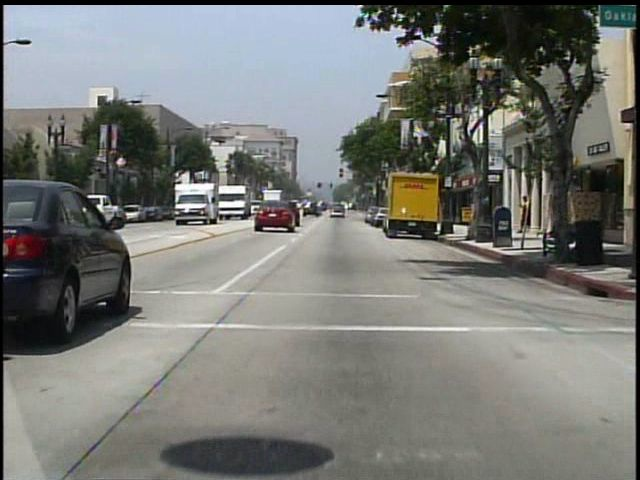person: (516, 195, 530, 235)
